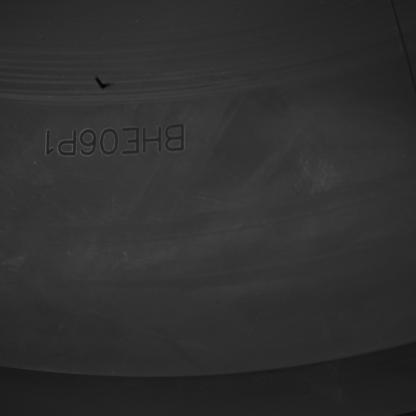ocr: (43, 122, 187, 158)
